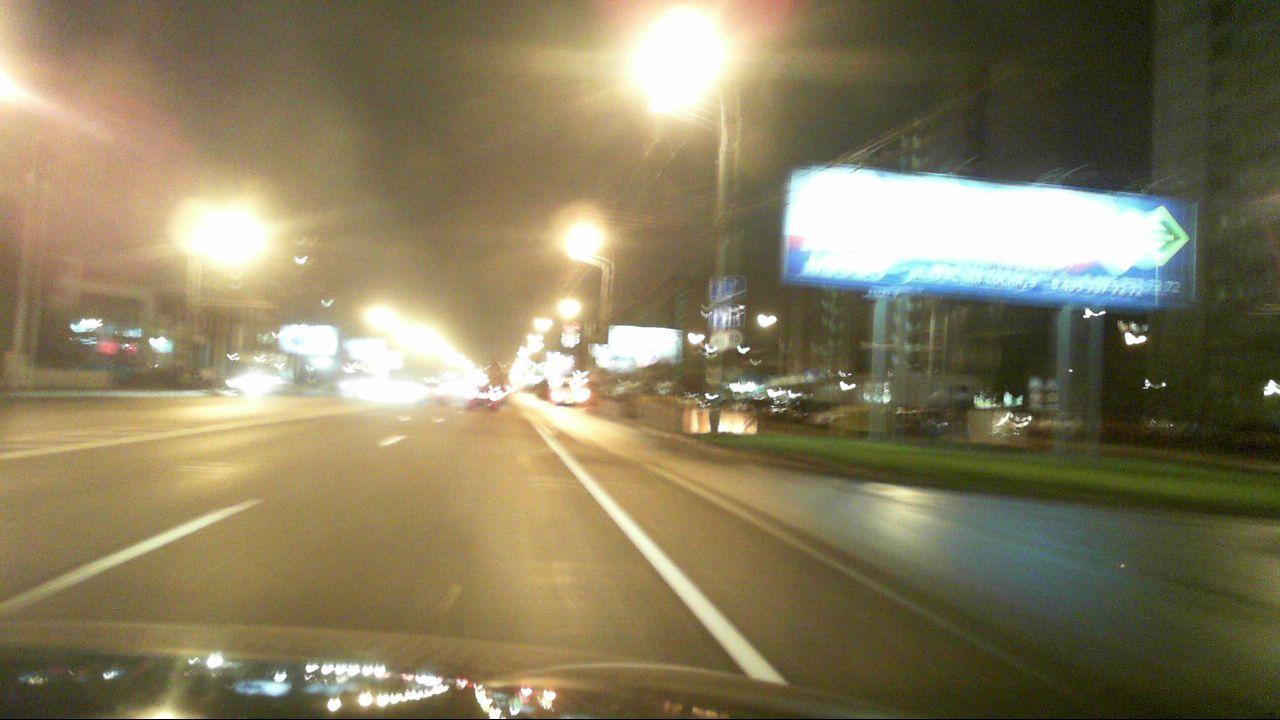3_24: (725, 329, 744, 349)
6_6: (721, 275, 747, 302)
